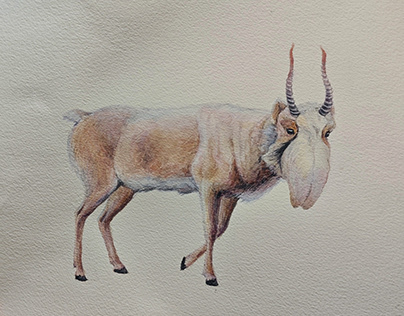saiga: (62, 42, 341, 281)
